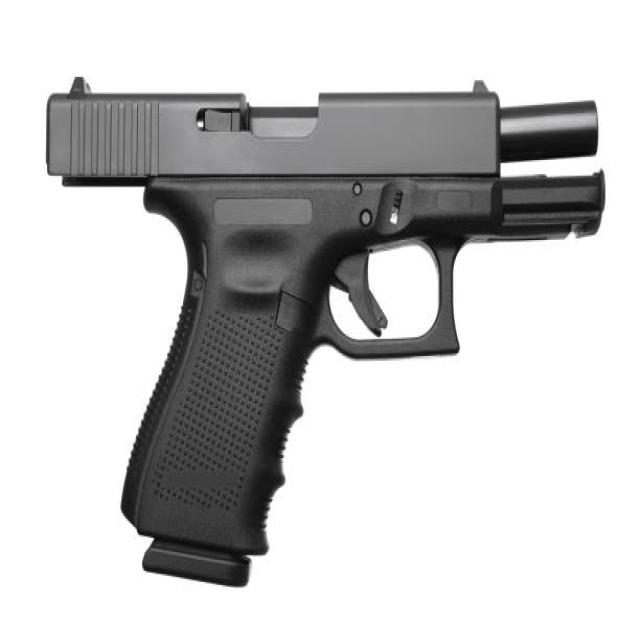pistol: (34, 54, 612, 594)
